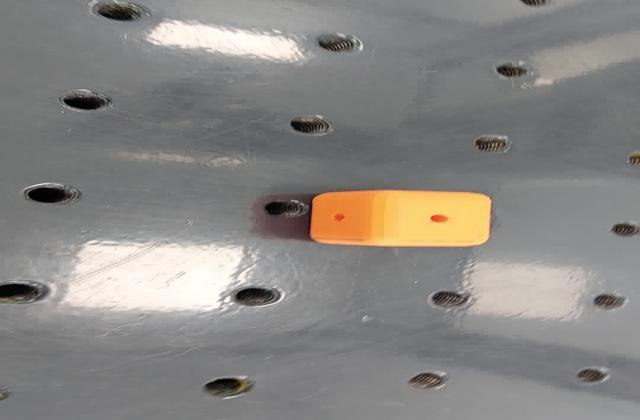cube: (304, 188, 494, 248)
